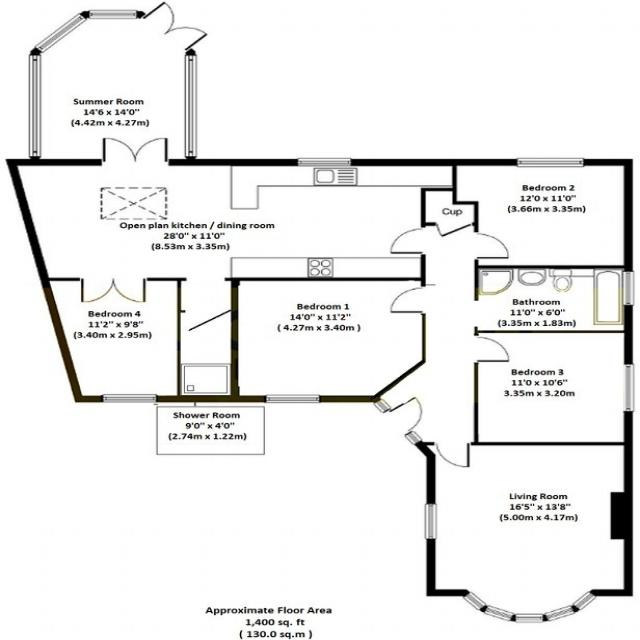DOOR: (382, 395, 424, 435), (473, 231, 511, 261), (388, 286, 426, 315), (389, 227, 426, 256), (474, 335, 510, 364), (433, 442, 472, 468)
DOUBLE DOOR: (100, 135, 171, 167), (79, 278, 149, 305)
ROOM: (415, 442, 633, 623), (230, 277, 426, 403), (452, 158, 633, 268), (474, 330, 635, 446), (40, 278, 182, 403)
WINDOW: (462, 590, 599, 623), (515, 157, 585, 168), (623, 363, 635, 413), (296, 157, 352, 167), (424, 503, 438, 540), (264, 394, 321, 403), (102, 394, 158, 403), (622, 270, 635, 306), (402, 429, 425, 446), (372, 397, 392, 414)
